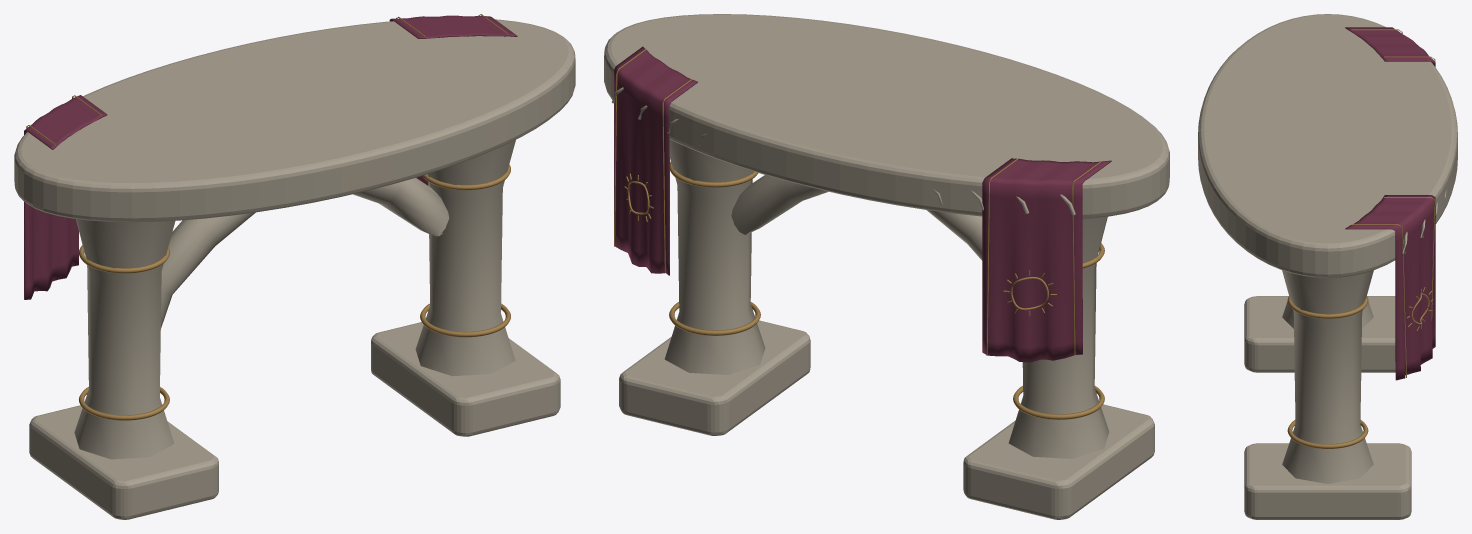
File: priestess.fbx
The picture shows the model from 3 angles, left to right: view 1: azimuth 30°, elevation 25°; view 2: azimuth 150°, elevation 25°; view 3: azimuth 270°, elevation 25°; orthographic projection. The views are drawn at different scales.
Parts seen in each view (by area): view 1: priestess_PaleStone, GroundSupport00_Dressed stone plinth_PaleStone, GroundSupport01_Dressed stone plinth.001_PaleStone, ClothRunner_58_AltarCloth, priestess_Brass, ClothRunner_-58_AltarCloth; view 2: priestess_PaleStone, ClothRunner_58_AltarCloth, ClothRunner_-58_AltarCloth, GroundSupport00_Dressed stone plinth_PaleStone, GroundSupport01_Dressed stone plinth.001_PaleStone, priestess_Brass, ClothDecoration_58, ClothDecoration_-58; view 3: priestess_PaleStone, GroundSupport00_Dressed stone plinth_PaleStone, ClothRunner_-58_AltarCloth, GroundSupport01_Dressed stone plinth.001_PaleStone, ClothRunner_58_AltarCloth, priestess_Brass, ClothDecoration_-58.
Boxes of the visible parts, x1,y1,x2,y2 form: priestess_PaleStone: (14,19,575,459); GroundSupport00_Dressed stone plinth_PaleStone: (371,322,560,436); GroundSupport01_Dressed stone plinth.001_PaleStone: (29,405,218,519); ClothRunner_58_AltarCloth: (24,95,107,299); priestess_Brass: (79,164,510,420); ClothRunner_-58_AltarCloth: (389,15,517,185); priestess_PaleStone: (604,14,1169,458); ClothRunner_58_AltarCloth: (982,158,1111,362); ClothRunner_-58_AltarCloth: (614,46,697,275); GroundSupport00_Dressed stone plinth_PaleStone: (619,320,810,435); GroundSupport01_Dressed stone plinth.001_PaleStone: (963,404,1154,519); priestess_Brass: (669,161,1104,419); ClothDecoration_58: (986,158,1101,355); ClothDecoration_-58: (614,49,692,273); priestess_PaleStone: (1198,14,1457,483); GroundSupport00_Dressed stone plinth_PaleStone: (1244,443,1411,519); ClothRunner_-58_AltarCloth: (1345,195,1435,380); GroundSupport01_Dressed stone plinth.001_PaleStone: (1244,296,1395,372); ClothRunner_58_AltarCloth: (1345,27,1435,66); priestess_Brass: (1287,296,1368,448); ClothDecoration_-58: (1351,197,1435,377).
Bounding box in the file's own units: 162 × 96.24 × 76.
